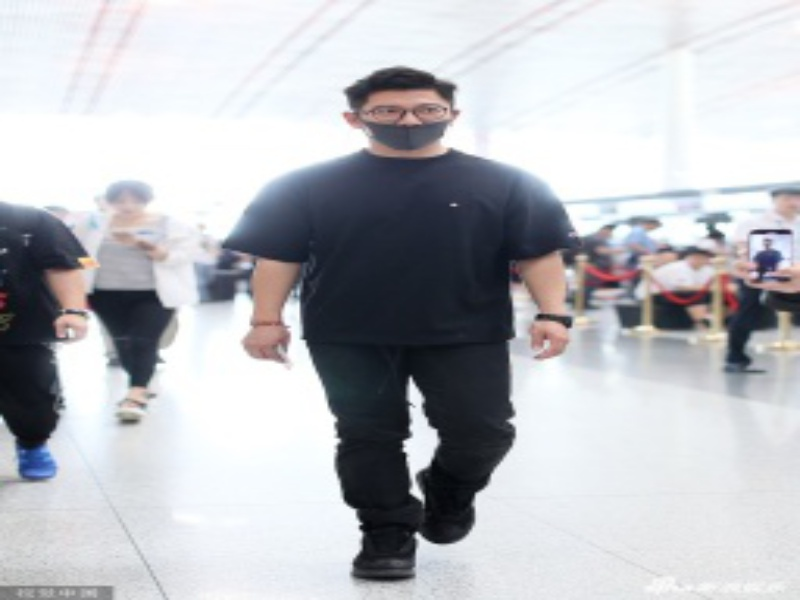ManaoArotava: (338, 61, 477, 156)
